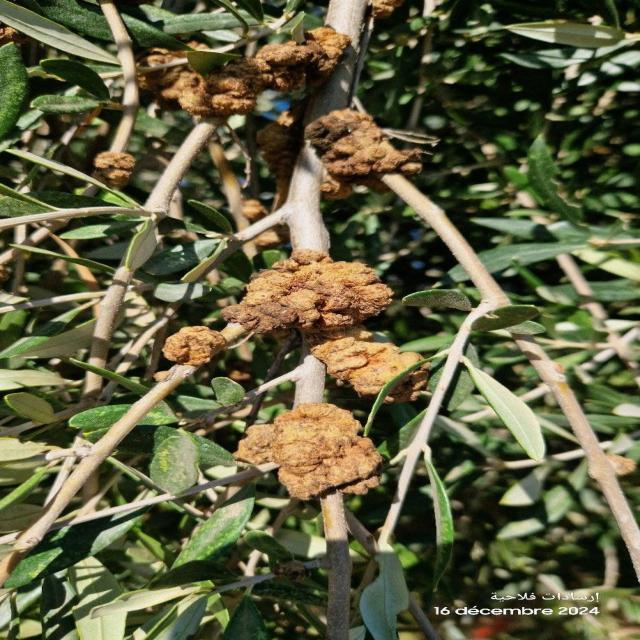Tuberculosis: (139, 27, 350, 122), (222, 249, 393, 334), (234, 403, 381, 500), (305, 108, 424, 200), (311, 336, 420, 396), (162, 326, 221, 367), (92, 150, 137, 190)
